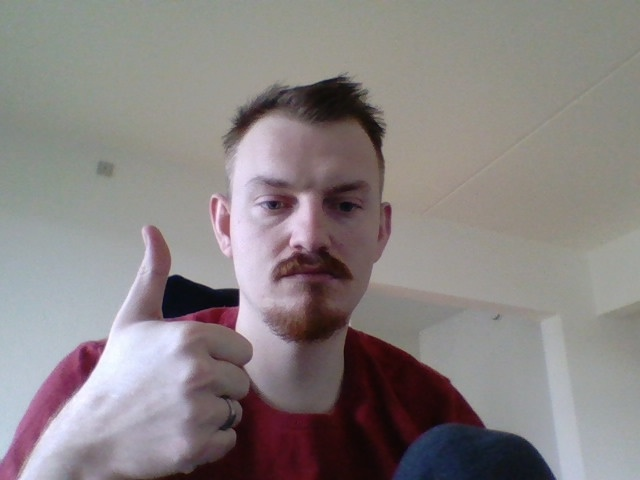ThumpsUp: (98, 220, 261, 478)
